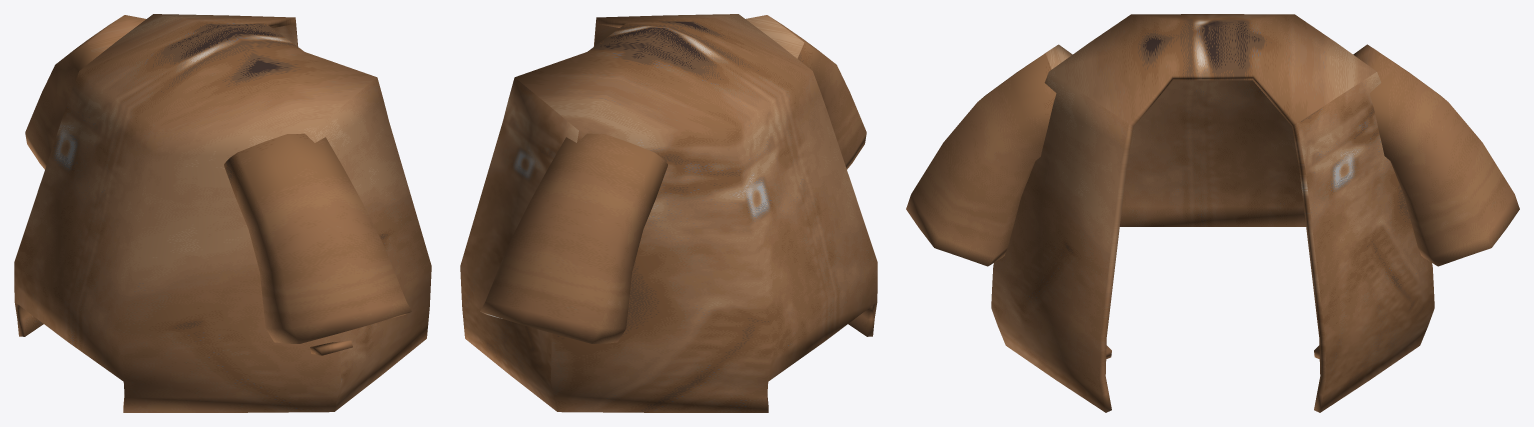
The model's file is Carhart.glb.
3 renders of one model, left to right at view 1: azimuth 30°, elevation 25°; view 2: azimuth 150°, elevation 25°; view 3: azimuth 270°, elevation 25°, orthographic. The views are drawn at different scales.
Visible parts, largest first — view 1: Carhart; view 2: Carhart; view 3: Carhart.
Boxes of the visible parts, x1,y1,x2,y2 form: Carhart: (14, 14, 431, 412); Carhart: (460, 14, 877, 412); Carhart: (906, 14, 1519, 412).
Bounding box in the file's own units: 1.49 × 1.47 × 2.48.
Materials: 1 (1 with a texture image).
